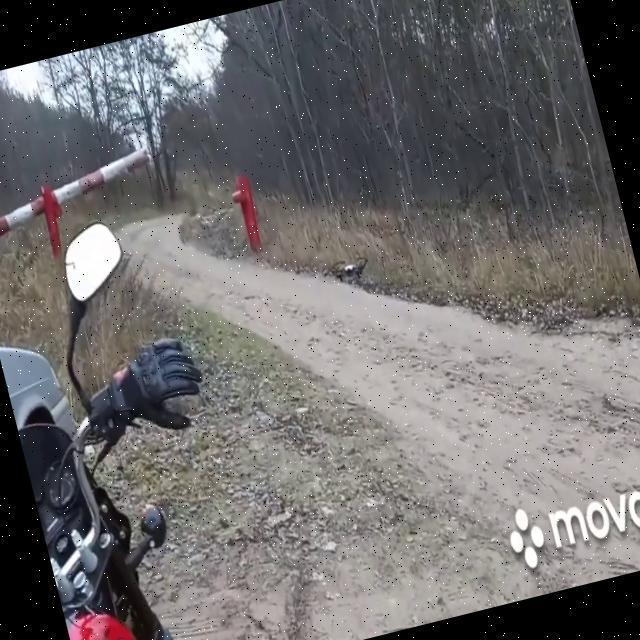Drons: (316, 247, 374, 294)
